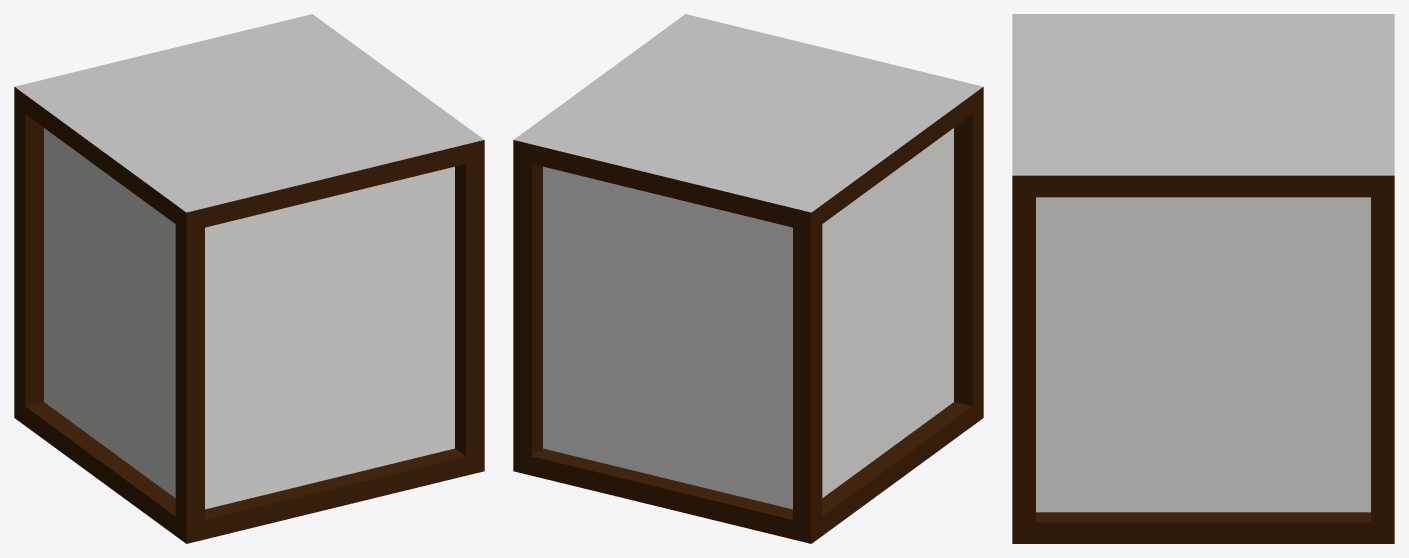
File: model_loc_1604_h.obj
3 renders of one model, left to right at view 1: azimuth 30°, elevation 25°; view 2: azimuth 150°, elevation 25°; view 3: azimuth 270°, elevation 25°, orthographic. The views are drawn at different scales.
Visible parts, largest first — view 1: 2187; view 2: 2187; view 3: 2187.
Part boxes in pixels (bbox=[...]): 2187: bbox=[14, 14, 484, 543]; 2187: bbox=[513, 14, 983, 543]; 2187: bbox=[1012, 14, 1394, 543].
Size of the model in its own units: 128 by 136 by 128.
